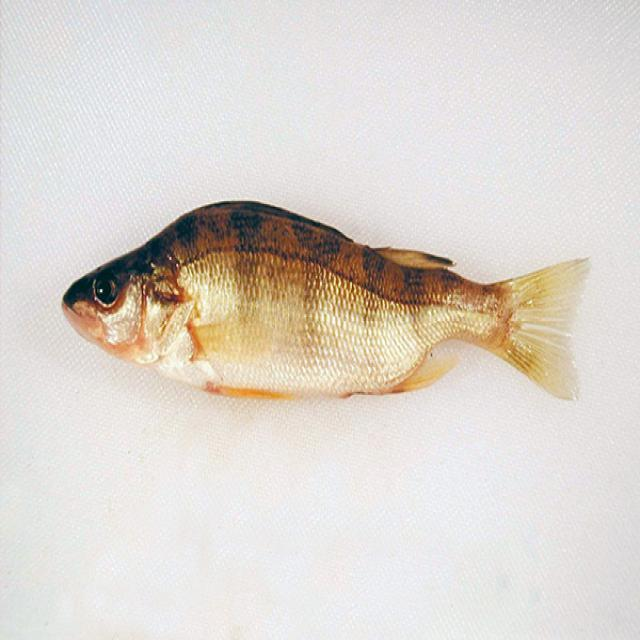EUS Disease: (49, 196, 599, 410)
